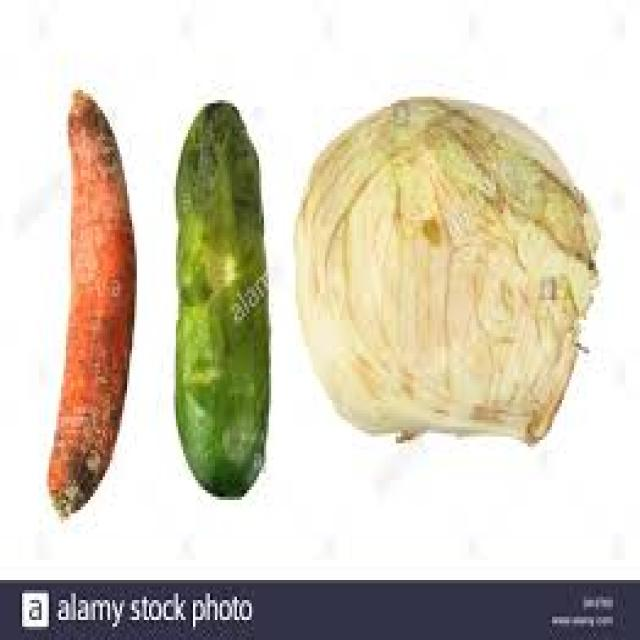food_waste: (296, 97, 591, 440), (49, 90, 134, 513), (176, 103, 266, 493)
